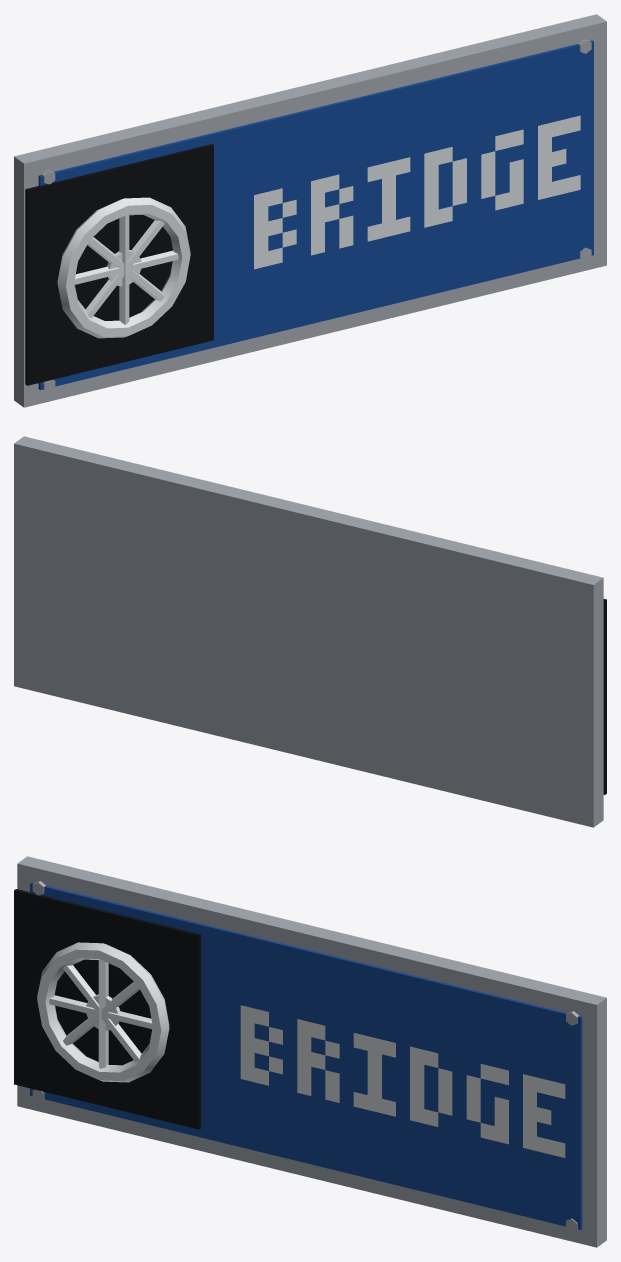
Rendered from sign_dept_bridge.glb.
3 views of the same model, one above another, from view 1: azimuth 30°, elevation 25°; view 2: azimuth 150°, elevation 25°; view 3: azimuth 330°, elevation 25° (orthographic).
Parts seen in each view (by area): view 1: sign_dept_bridge; view 2: sign_dept_bridge; view 3: sign_dept_bridge.
Boxes of the visible parts, x1,y1,x2,y2 form: sign_dept_bridge: (14,14,606,407); sign_dept_bridge: (14,436,606,827); sign_dept_bridge: (14,856,606,1247).
Size of the model in its own units: 1 by 0.4 by 0.0621.
